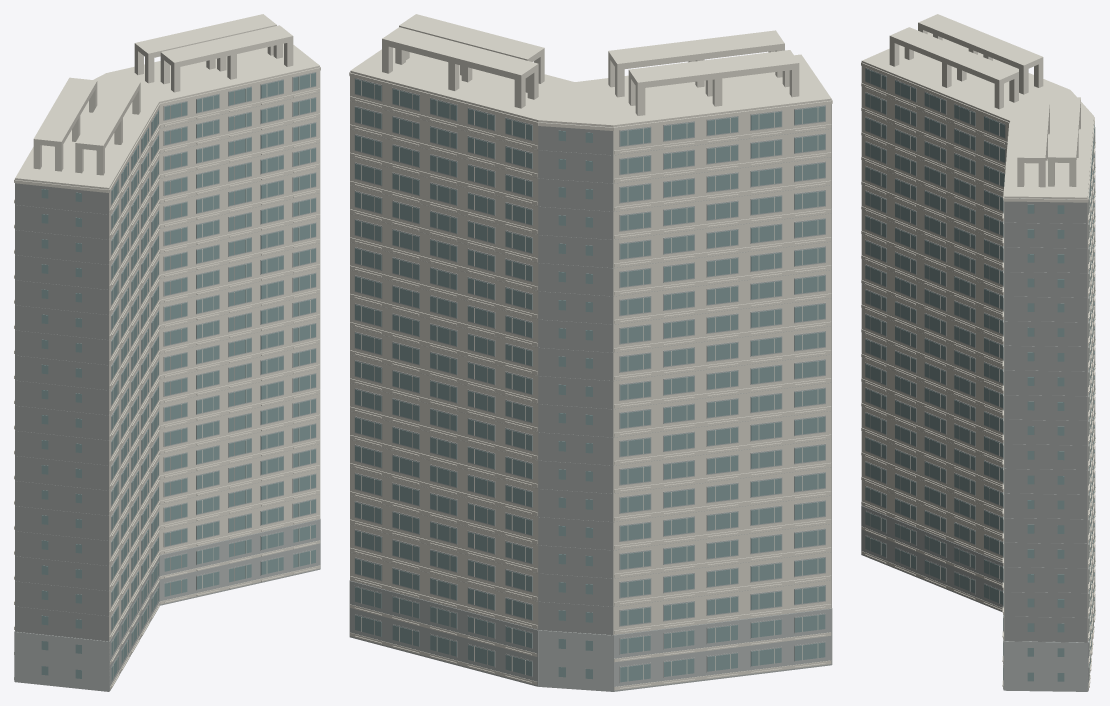
Rendered from bespoke-godeok-raemian-hillstate-126.glb.
3 views of the same model, side by side, from view 1: azimuth 30°, elevation 25°; view 2: azimuth 150°, elevation 25°; view 3: azimuth 270°, elevation 25° (orthographic). The views are drawn at different scales.
Visible parts, largest first — view 1: Hillstate126_editable_Hillstate126_broad_white_facade_frames, Hillstate126_editable_Hillstate126_turquoise_balcony_glazing, Hillstate126_editable_Hillstate126_grey_vertical_service_wal, Hillstate126_editable_Hillstate126_light_grey_solid_wall002; view 2: Hillstate126_editable_Hillstate126_broad_white_facade_frames, Hillstate126_editable_Hillstate126_turquoise_balcony_glazing, Hillstate126_editable_Hillstate126_light_grey_solid_wall002, Hillstate126_editable_Hillstate126_grey_vertical_service_wal; view 3: Hillstate126_editable_Hillstate126_broad_white_facade_frames, Hillstate126_editable_Hillstate126_grey_vertical_service_wal, Hillstate126_editable_Hillstate126_turquoise_balcony_glazing, Hillstate126_editable_Hillstate126_light_grey_solid_wall002.
Boxes of the visible parts, left/top/right/bottom form: Hillstate126_editable_Hillstate126_broad_white_facade_frames: left=14, top=14, right=320, bottom=691; Hillstate126_editable_Hillstate126_turquoise_balcony_glazing: left=41, top=73, right=315, bottom=680; Hillstate126_editable_Hillstate126_grey_vertical_service_wal: left=15, top=180, right=108, bottom=641; Hillstate126_editable_Hillstate126_light_grey_solid_wall002: left=14, top=72, right=320, bottom=691; Hillstate126_editable_Hillstate126_broad_white_facade_frames: left=349, top=14, right=832, bottom=690; Hillstate126_editable_Hillstate126_turquoise_balcony_glazing: left=355, top=79, right=825, bottom=682; Hillstate126_editable_Hillstate126_light_grey_solid_wall002: left=349, top=78, right=832, bottom=691; Hillstate126_editable_Hillstate126_grey_vertical_service_wal: left=538, top=104, right=831, bottom=635; Hillstate126_editable_Hillstate126_broad_white_facade_frames: left=861, top=14, right=1095, bottom=689; Hillstate126_editable_Hillstate126_grey_vertical_service_wal: left=1004, top=198, right=1087, bottom=642; Hillstate126_editable_Hillstate126_turquoise_balcony_glazing: left=865, top=68, right=1094, bottom=681; Hillstate126_editable_Hillstate126_light_grey_solid_wall002: left=861, top=67, right=1094, bottom=691.
Size of the model in its own units: 41.72 by 61.1 by 24.85.
